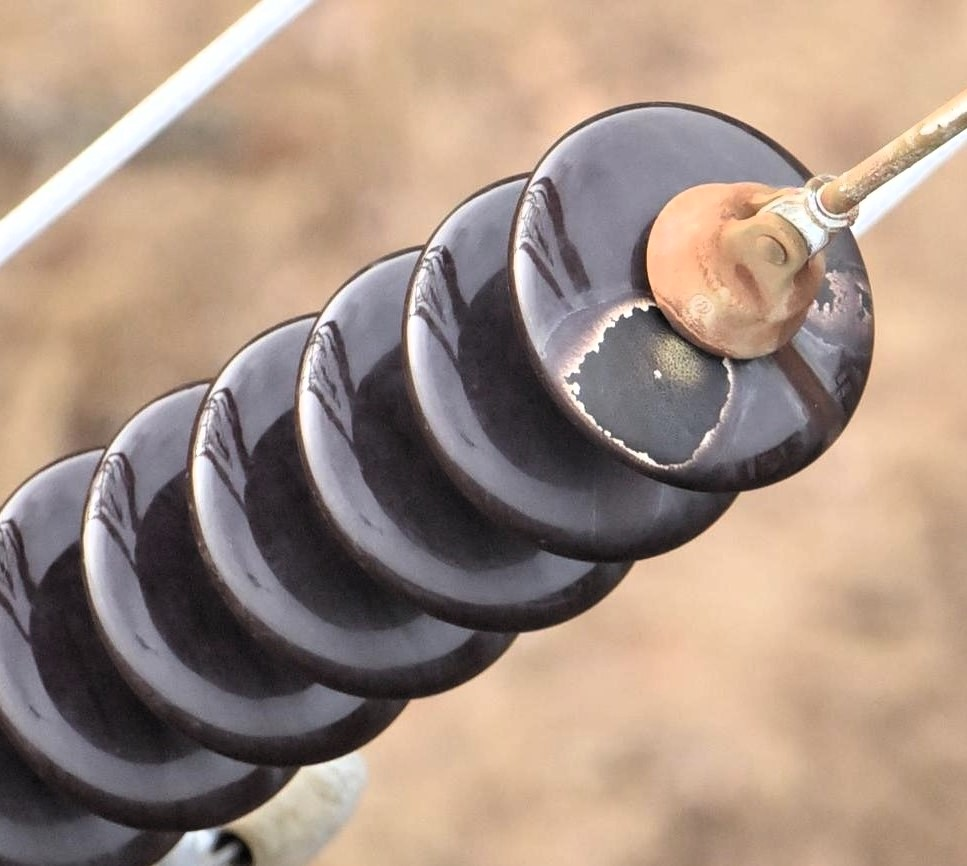Insulator flashover: (500, 97, 886, 494)
